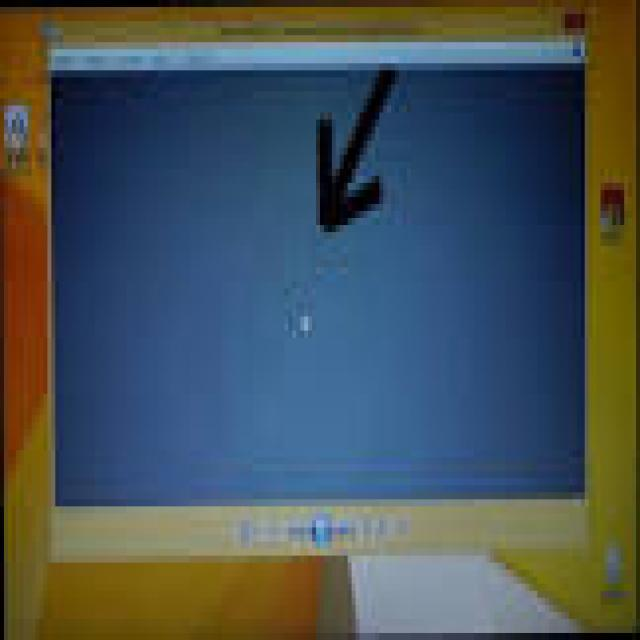dead_pixel: (298, 307, 314, 344)
